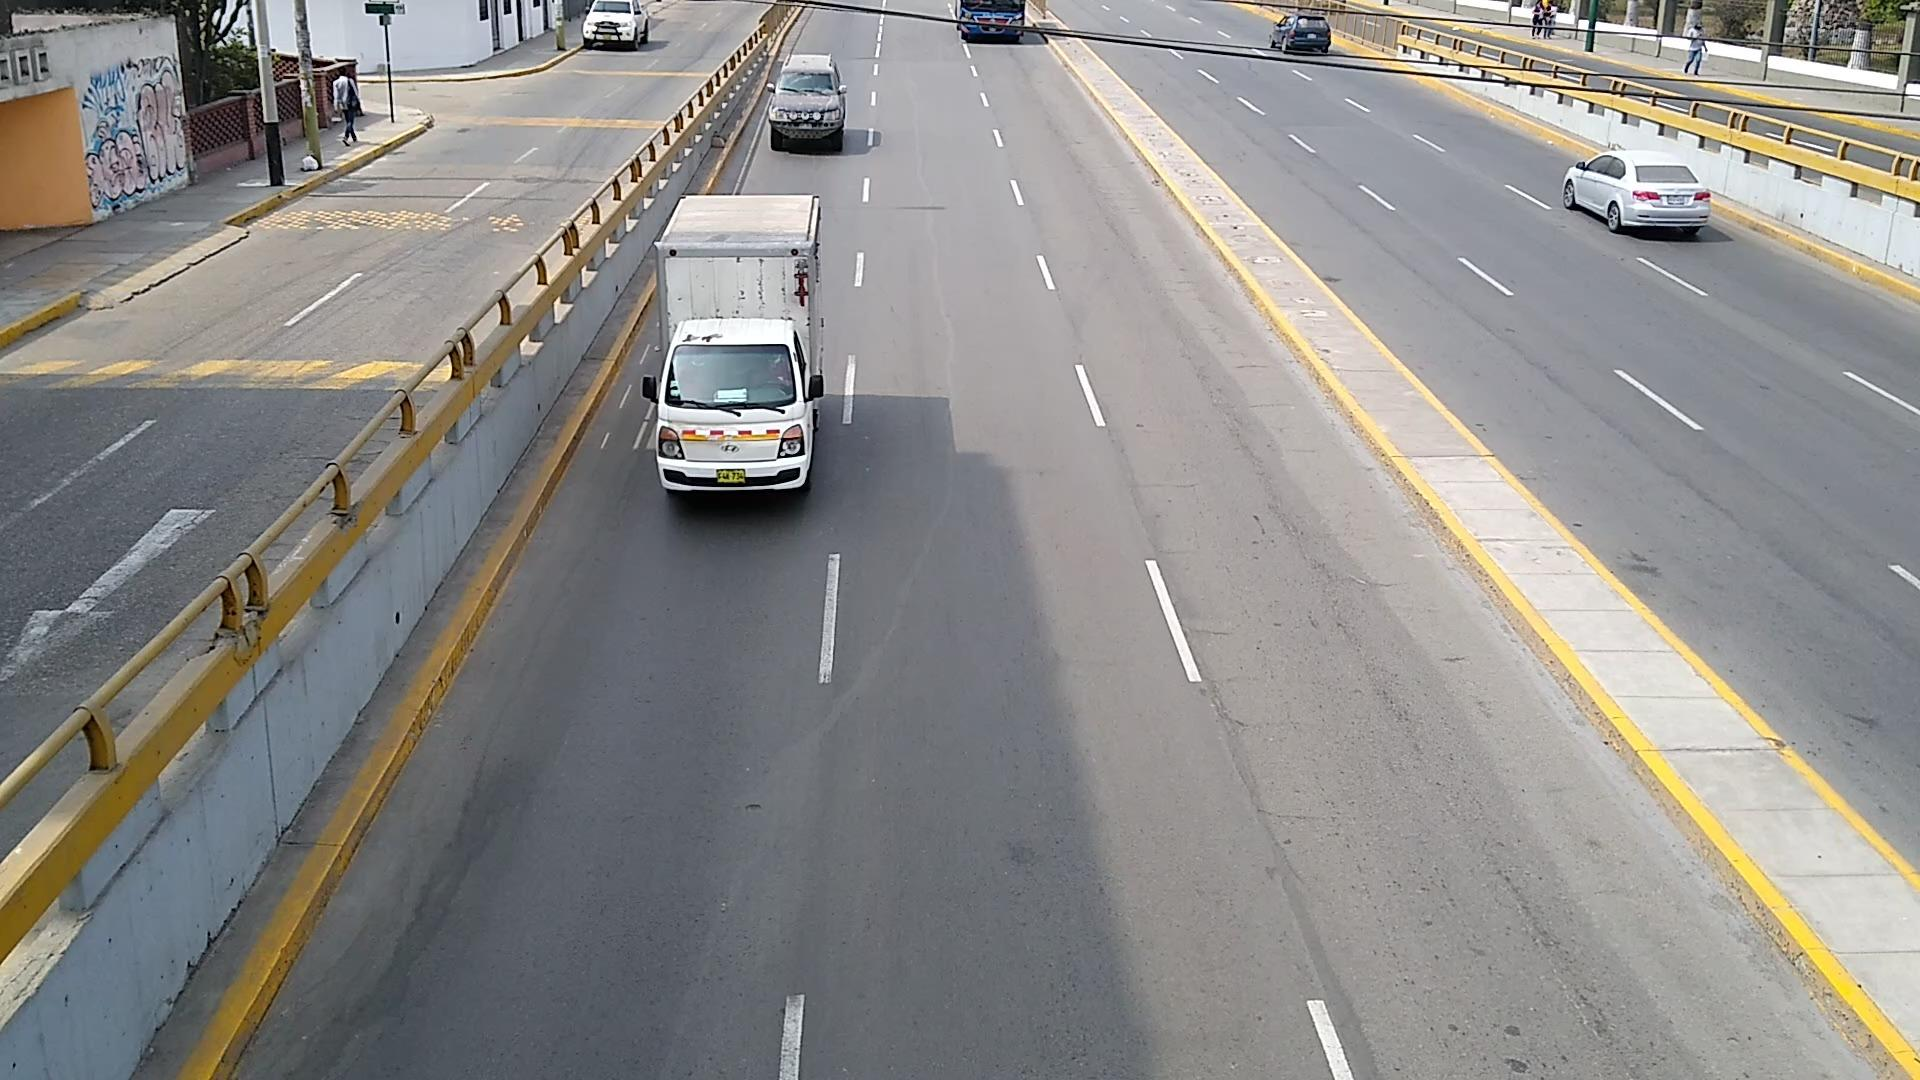bus: (956, 0, 1023, 41)
car: (1564, 150, 1710, 236), (769, 53, 848, 150), (582, 0, 649, 49), (1271, 12, 1332, 53)
lorry: (641, 195, 825, 495)
